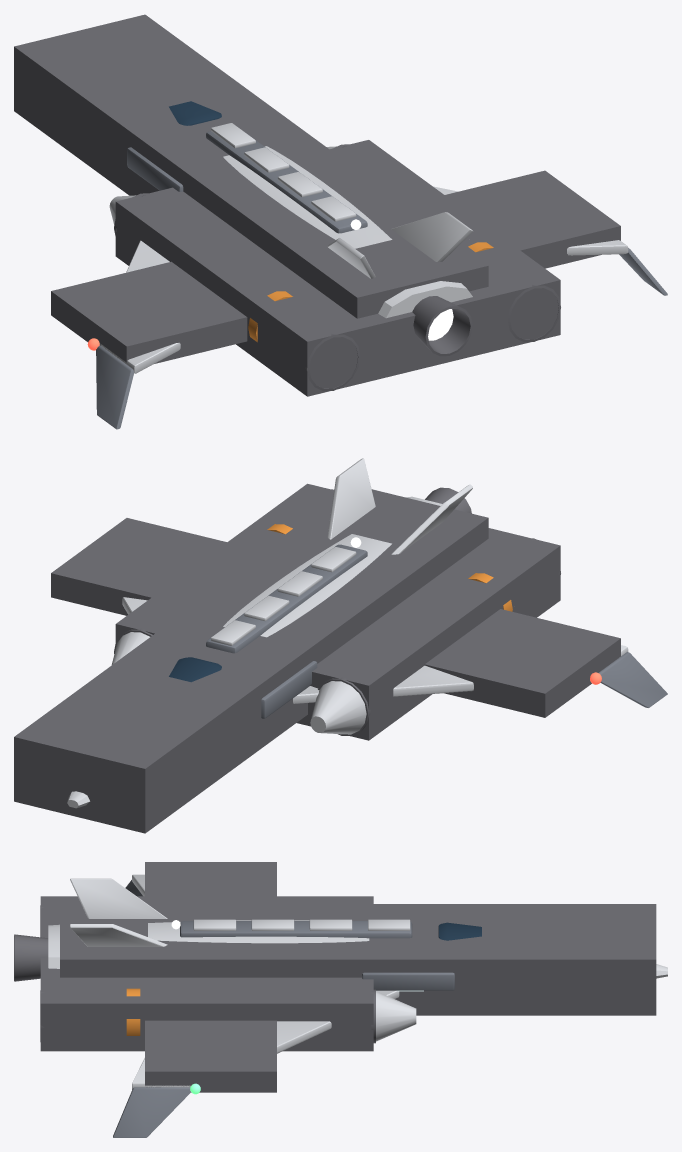
File: ship.glb
The picture shows the model from 3 angles, top to bottom: view 1: azimuth 30°, elevation 25°; view 2: azimuth 150°, elevation 25°; view 3: azimuth 270°, elevation 25°; orthographic projection. The views are drawn at different scales.
Visible parts, largest first — view 1: ship-shell, ship; view 2: ship-shell, ship; view 3: ship-shell, ship.
Part boxes in pixels (x1,y1,x2,y2): ship-shell: (14, 14, 620, 396); ship: (87, 101, 667, 429); ship-shell: (14, 483, 620, 833); ship: (67, 458, 667, 808); ship-shell: (40, 862, 656, 1092); ship: (14, 874, 667, 1137).
Size of the model in its own units: 14.29 by 3.41 by 16.89.
